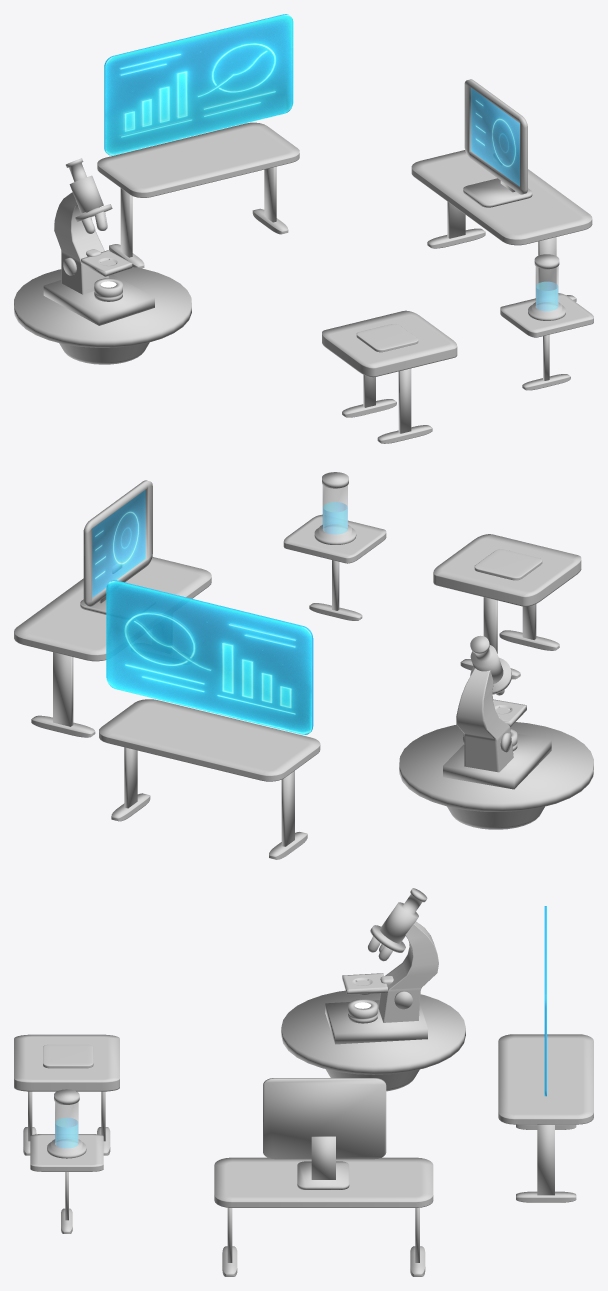
Rendered from labnew.glb.
3 renders of one model, top to bottom at view 1: azimuth 30°, elevation 25°; view 2: azimuth 150°, elevation 25°; view 3: azimuth 270°, elevation 25°, orthographic. The views are drawn at different scales.
Parts seen in each view (by area): view 1: Hologram, Table_part, Suport_v1, Table_part_v1, Monitor Screen, Table_part_v4, Stand, Support.002, Table_part_v2, Bottle, Table_legs, Viewer (+10 smaller); view 2: Hologram, Table_part, Suport_v1, Table_part_v1, Monitor Screen, Table_part_v4, Stand, Support.002, Table_part_v2, Bottle, Table_legs, Table Stand (+9 smaller); view 3: Monitor Screen, Table_part_v1, Table_part, Suport_v1, Table_part_v4, Stand, Support.002, Table_part_v2, Bottle, Viewer, Table_legs, Top (+9 smaller).
Part boxes in pixels (box(x1,y1,x2,y2)): Hologram: box(104, 14, 293, 155); Table_part: box(97, 122, 299, 197); Suport_v1: box(14, 267, 191, 347); Table_part_v1: box(411, 150, 592, 245); Monitor Screen: box(464, 79, 527, 194); Table_part_v4: box(322, 310, 457, 377); Stand: box(54, 192, 109, 294); Support.002: box(43, 274, 154, 325); Table_part_v2: box(500, 293, 593, 337); Bottle: box(528, 254, 565, 320); Table_legs: box(120, 166, 276, 257); Viewer: box(66, 158, 112, 222); Hologram: box(106, 580, 313, 734); Table_part: box(99, 699, 320, 781); Suport_v1: box(399, 722, 593, 811); Table_part_v1: box(14, 557, 211, 661); Monitor Screen: box(83, 480, 152, 606); Table_part_v4: box(433, 534, 581, 606); Stand: box(456, 668, 513, 772); Support.002: box(443, 733, 551, 789); Table_part_v2: box(283, 514, 386, 563); Bottle: box(314, 472, 356, 544); Table_legs: box(124, 747, 294, 846); Table Stand: box(53, 652, 73, 726); Monitor Screen: box(263, 1078, 386, 1159); Table_part_v1: box(214, 1157, 433, 1207); Table_part: box(498, 1034, 593, 1124); Suport_v1: box(281, 990, 465, 1074); Table_part_v4: box(14, 1034, 119, 1091); Stand: box(378, 921, 438, 1022); Support.002: box(325, 1000, 427, 1044); Table_part_v2: box(30, 1134, 103, 1171); Bottle: box(47, 1089, 86, 1158); Viewer: box(370, 888, 427, 952); Table_legs: box(537, 1124, 554, 1195); Top: box(43, 1044, 93, 1068).
Bounding box in the file's own units: 9.46 × 3.8 × 9.26.
Materials: 7 (2 with a texture image).
